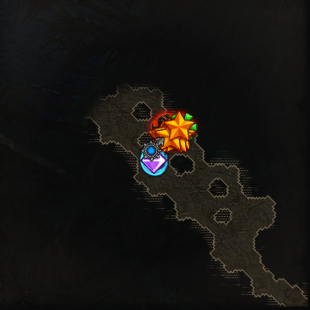Urushi: (142, 142, 168, 176)
